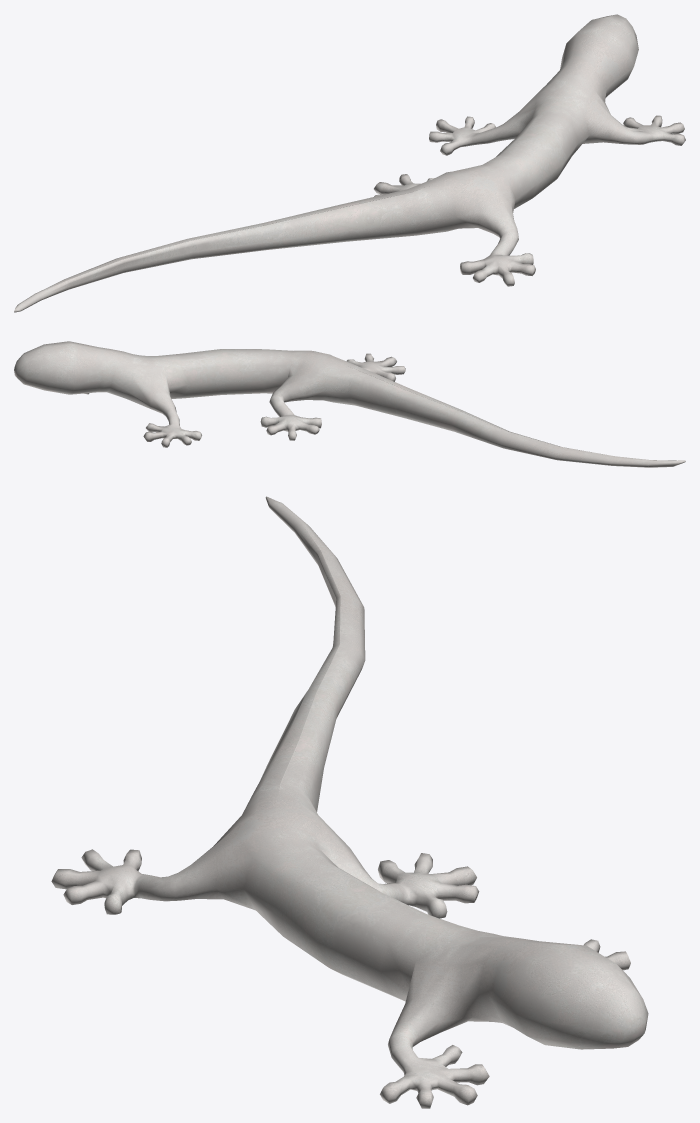
The model's file is gecko.glb.
3 renders of one model, top to bottom at view 1: azimuth 30°, elevation 25°; view 2: azimuth 150°, elevation 25°; view 3: azimuth 270°, elevation 25°, orthographic. The views are drawn at different scales.
Visible parts, largest first — view 1: Gecko skin; view 2: Gecko skin; view 3: Gecko skin.
Part boxes in pixels (left/top/right/bottom): Gecko skin: left=14, top=14, right=685, bottom=312; Gecko skin: left=14, top=341, right=685, bottom=467; Gecko skin: left=51, top=496, right=648, bottom=1108.
Size of the model in its own units: 16.65 by 1.85 by 7.4.
Materials: 1 (1 with a texture image).
